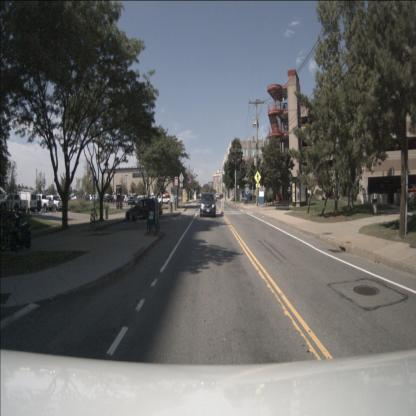vehicle-bicycle: (0, 211, 25, 252)
vehicle-car: (126, 198, 162, 222), (12, 191, 38, 213), (200, 192, 216, 218), (158, 195, 171, 205), (124, 196, 136, 204), (100, 195, 110, 203)
vehicle-motorcycle: (9, 211, 31, 252)
vehicle-truck: (3, 194, 28, 212), (30, 194, 53, 212), (42, 195, 63, 213)
